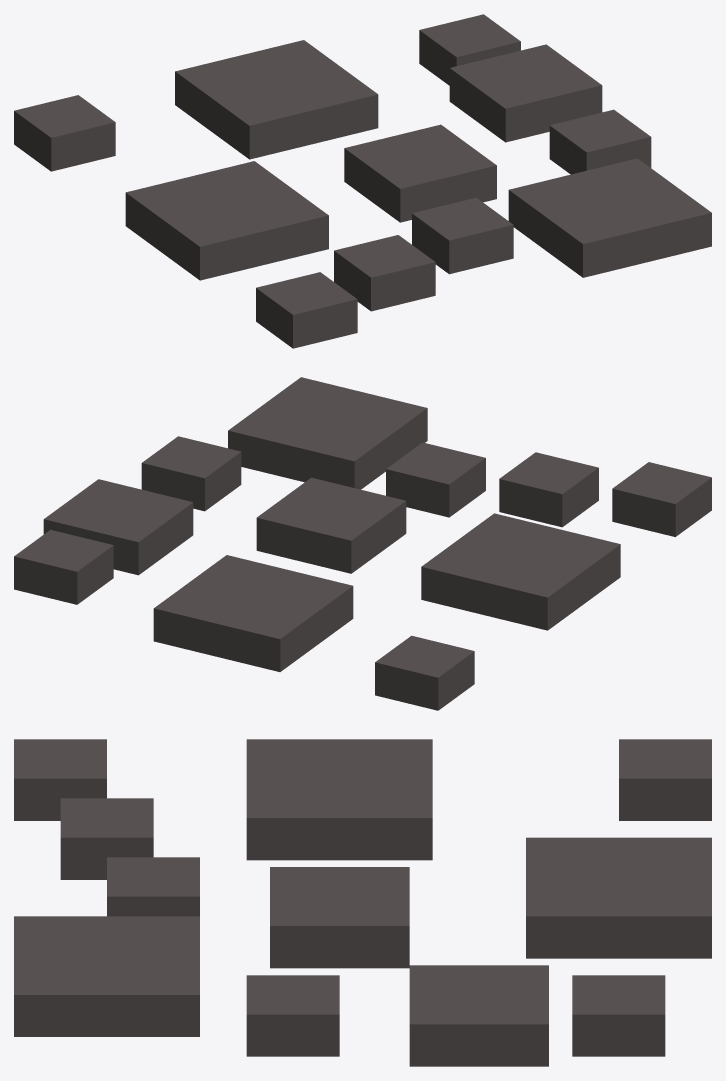
File: pebbles.gltf
3 views of the same model, one above another, from view 1: azimuth 30°, elevation 25°; view 2: azimuth 150°, elevation 25°; view 3: azimuth 270°, elevation 25° (orthographic). The views are drawn at different scales.
Parts seen in each view (by area): view 1: mesh (×11); view 2: mesh (×11); view 3: mesh (×11).
Boxes of the visible parts, bbox=[...] form: mesh (×11): bbox=[14, 14, 711, 348]; mesh (×11): bbox=[14, 377, 711, 710]; mesh (×11): bbox=[14, 739, 711, 1066].
Bounding box in the file's own units: 0.9062 × 0.0625 × 0.9375.
Materials: 1 (1 with a texture image).
